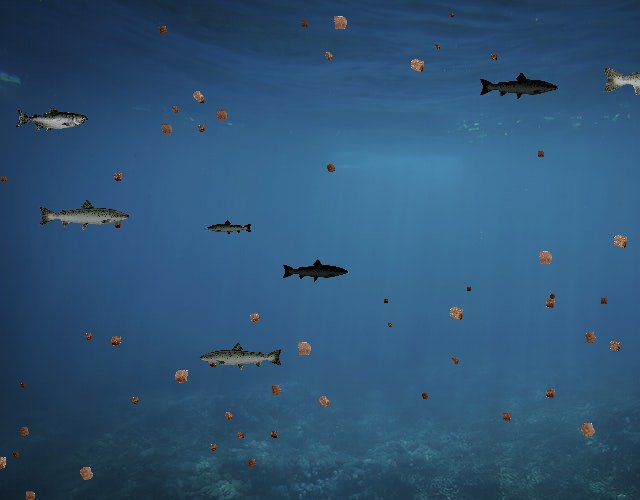Fish: (37, 198, 131, 232), (198, 341, 284, 372), (479, 71, 560, 101), (15, 106, 88, 133), (282, 258, 350, 282), (207, 219, 254, 236)
Pellet: (167, 363, 195, 391), (186, 84, 211, 109), (312, 390, 336, 414), (243, 307, 266, 330), (14, 421, 35, 442), (167, 101, 184, 118), (80, 329, 96, 345), (486, 50, 501, 64), (546, 291, 559, 304)
